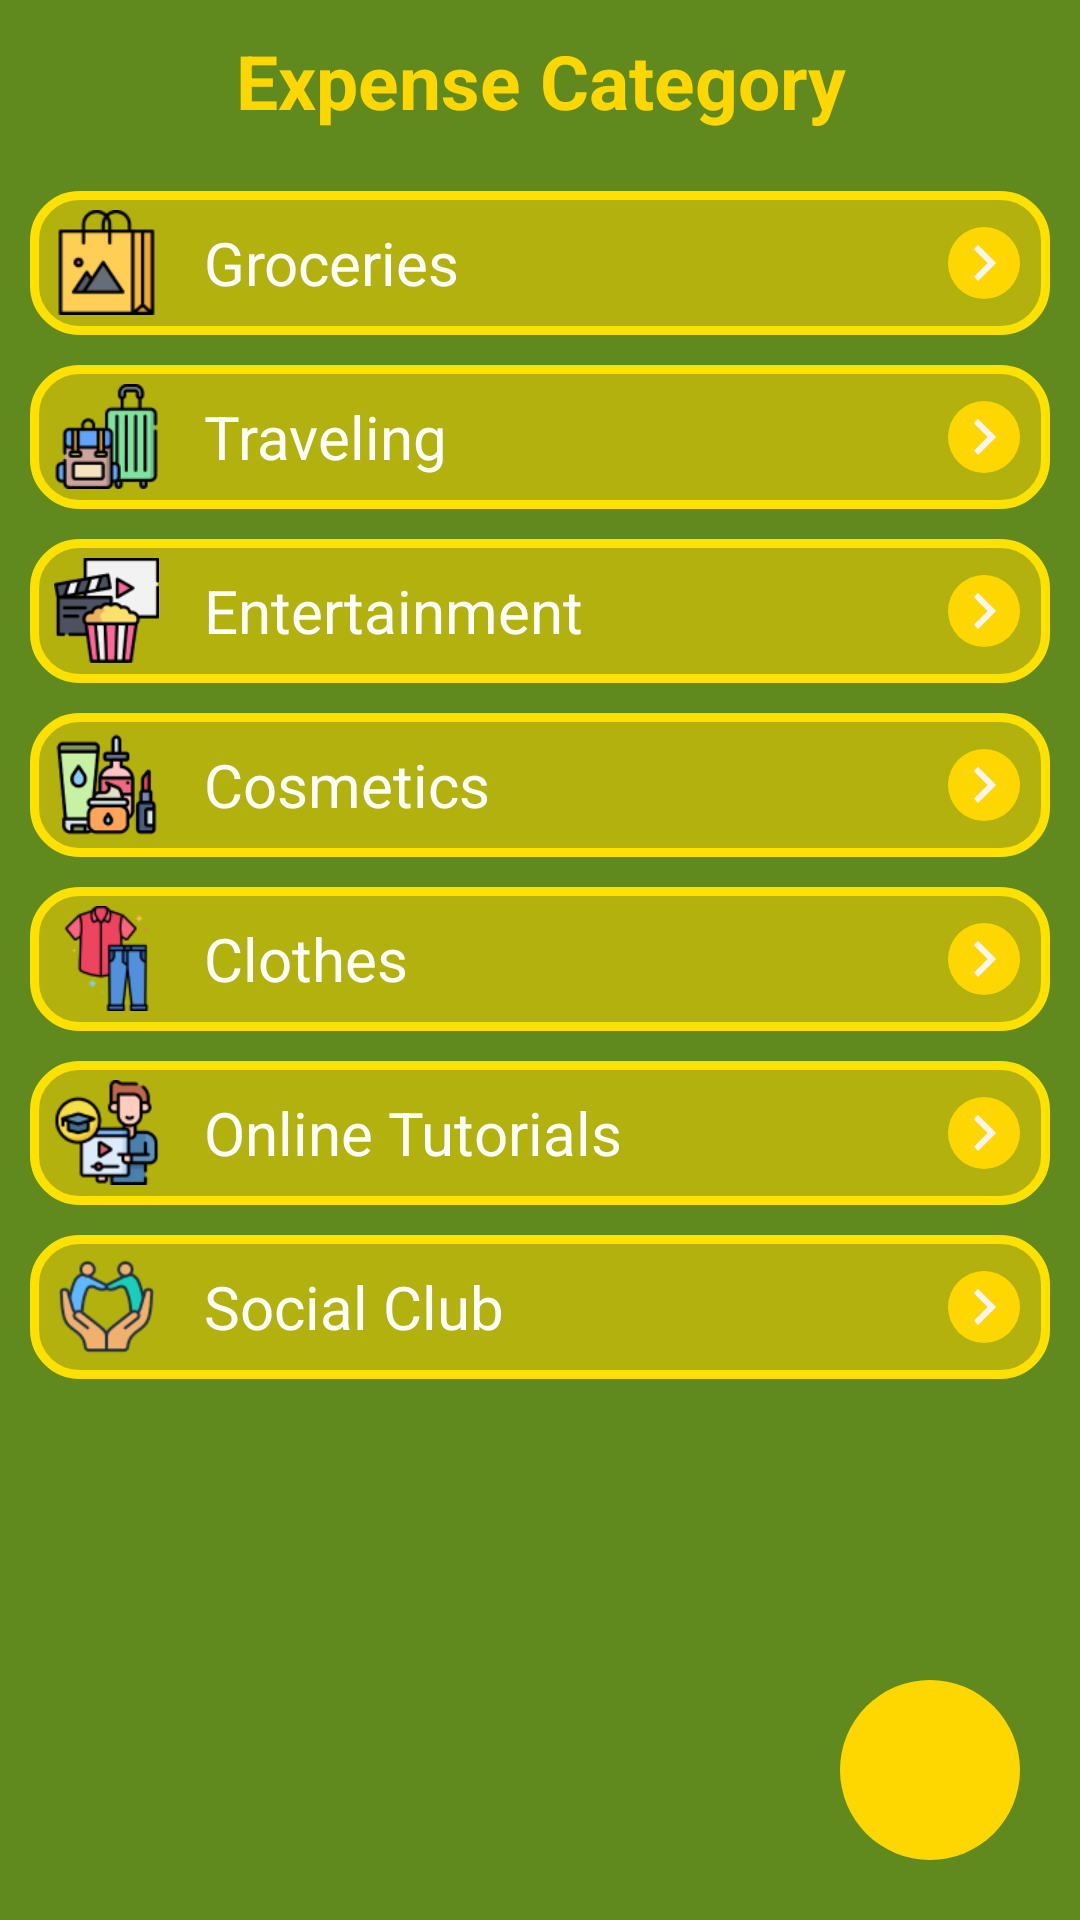

Named icons in this screenshot (1080 x 1920) and their centers, [x,y]:
arrow right: [984,263], [984,437], [984,611], [984,785], [984,959], [984,1133], [984,1307]
